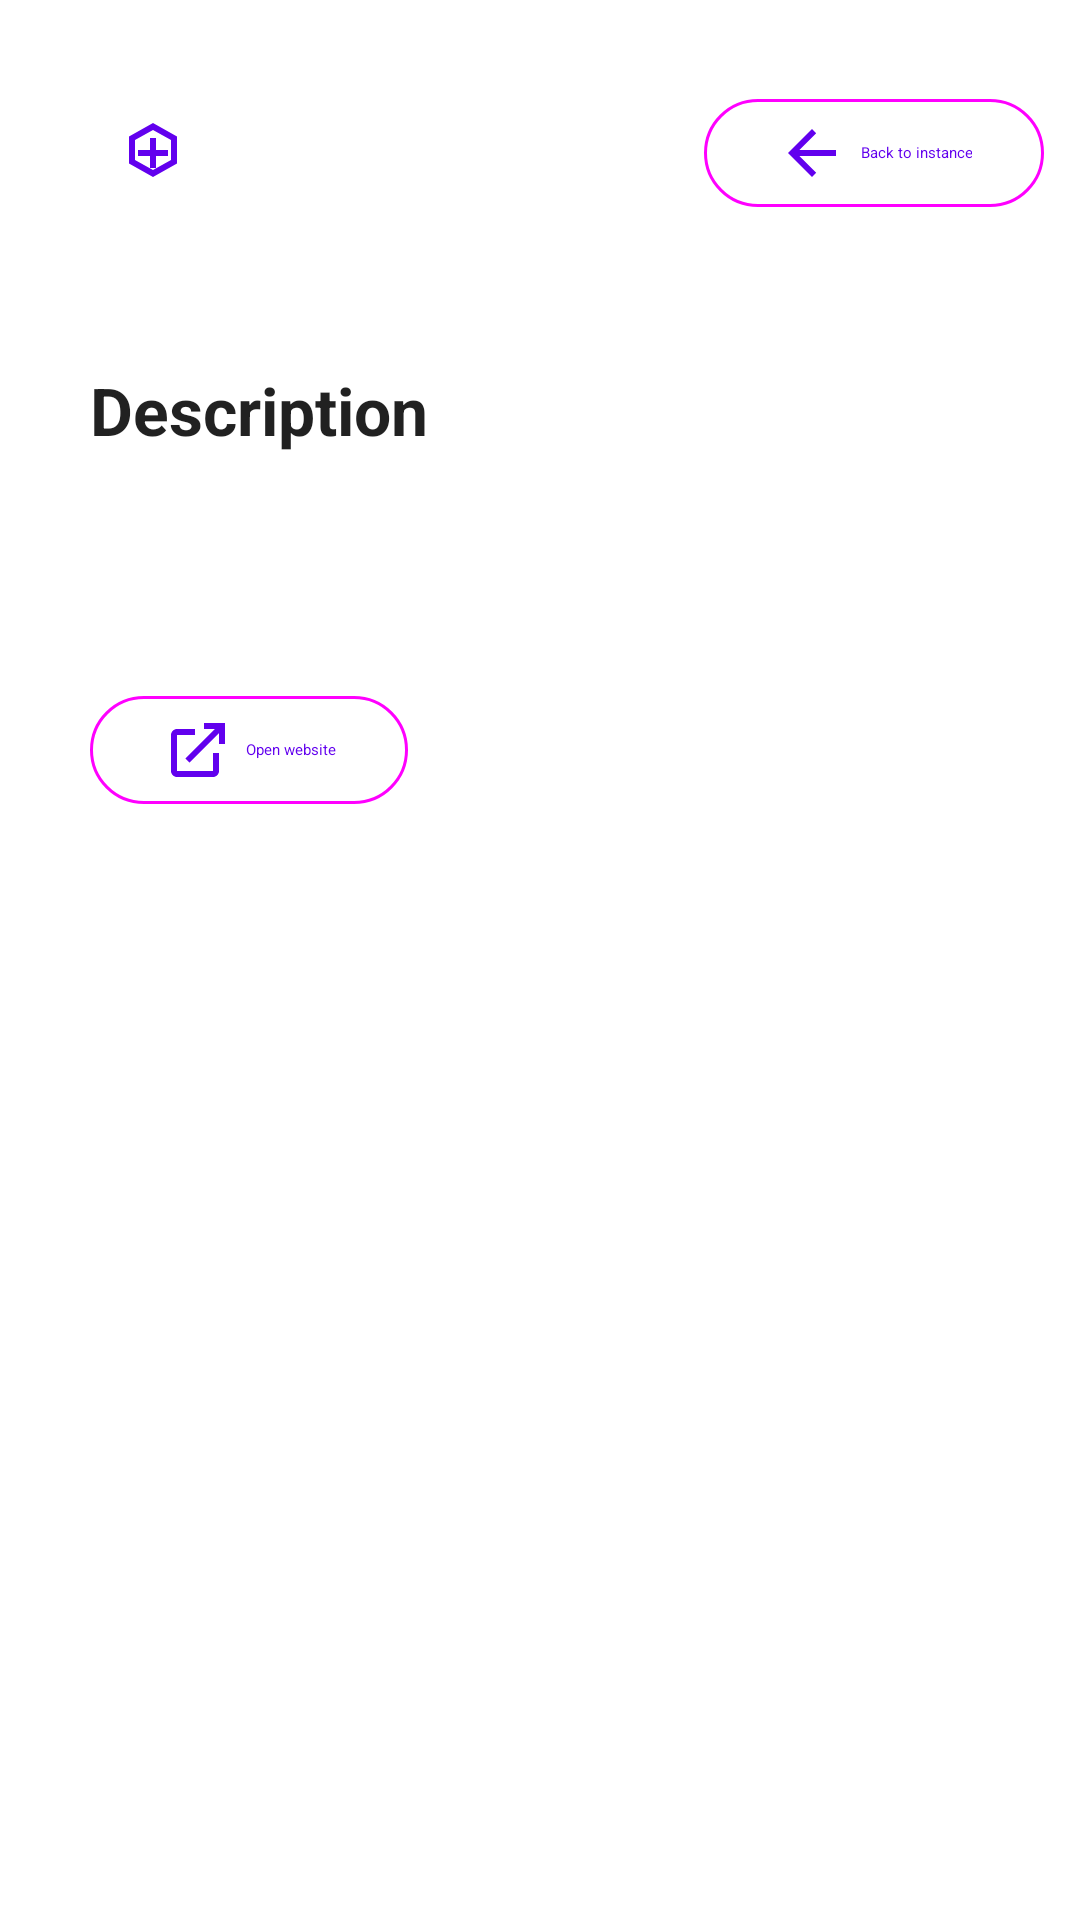

Icon bounding boxes for this 1080x1920 phone screenshot, format (x1, y1, x2, y2):
Project icon: (129, 123, 177, 177)
